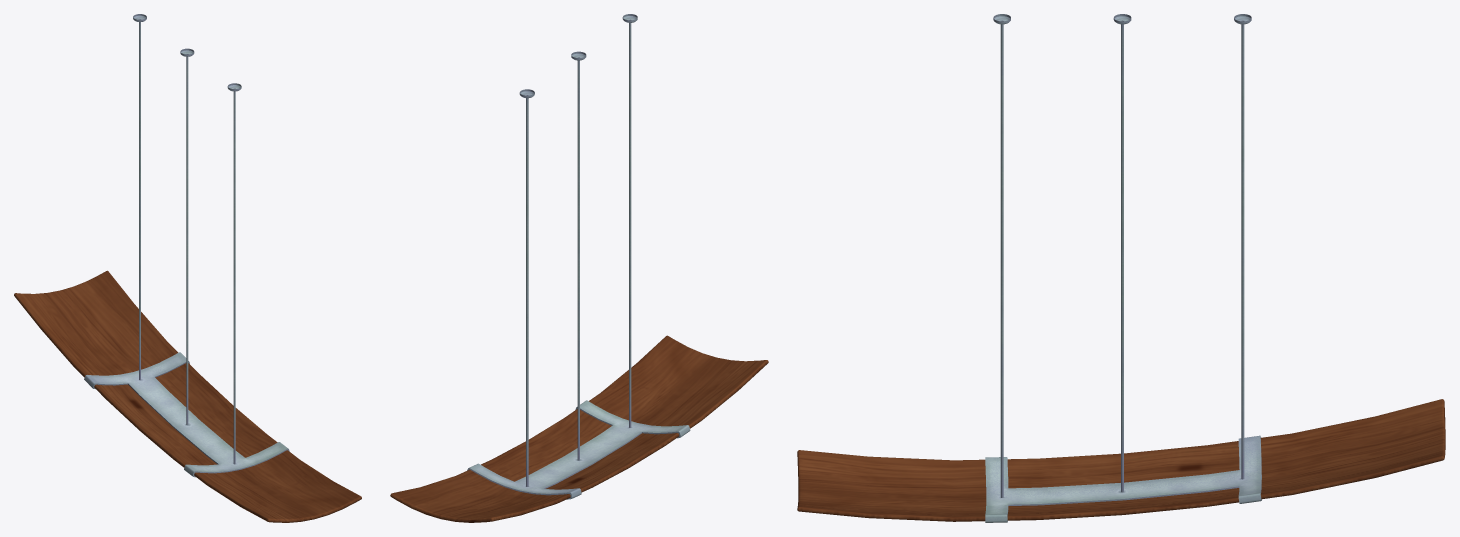
Rendered from Light_LP.FBX.
3 renders of one model, left to right at view 1: azimuth 30°, elevation 25°; view 2: azimuth 150°, elevation 25°; view 3: azimuth 270°, elevation 25°, orthographic. The views are drawn at different scales.
Parts seen in each view (by area): view 1: Light_LP; view 2: Light_LP; view 3: Light_LP.
Part boxes in pixels (bbox=[...]): Light_LP: bbox=[14, 14, 361, 522]; Light_LP: bbox=[390, 14, 768, 522]; Light_LP: bbox=[797, 14, 1445, 522].
Size of what is drawn, in the model's own units: 87.73 by 399 by 331.
